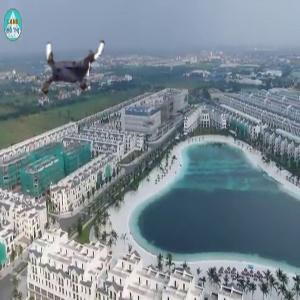drone: (35, 32, 110, 107)
